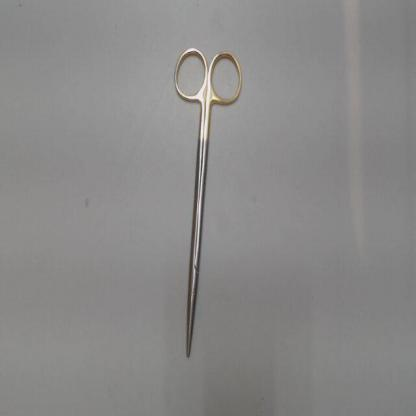7 Metzenbaum Scissors: (171, 43, 246, 360)
